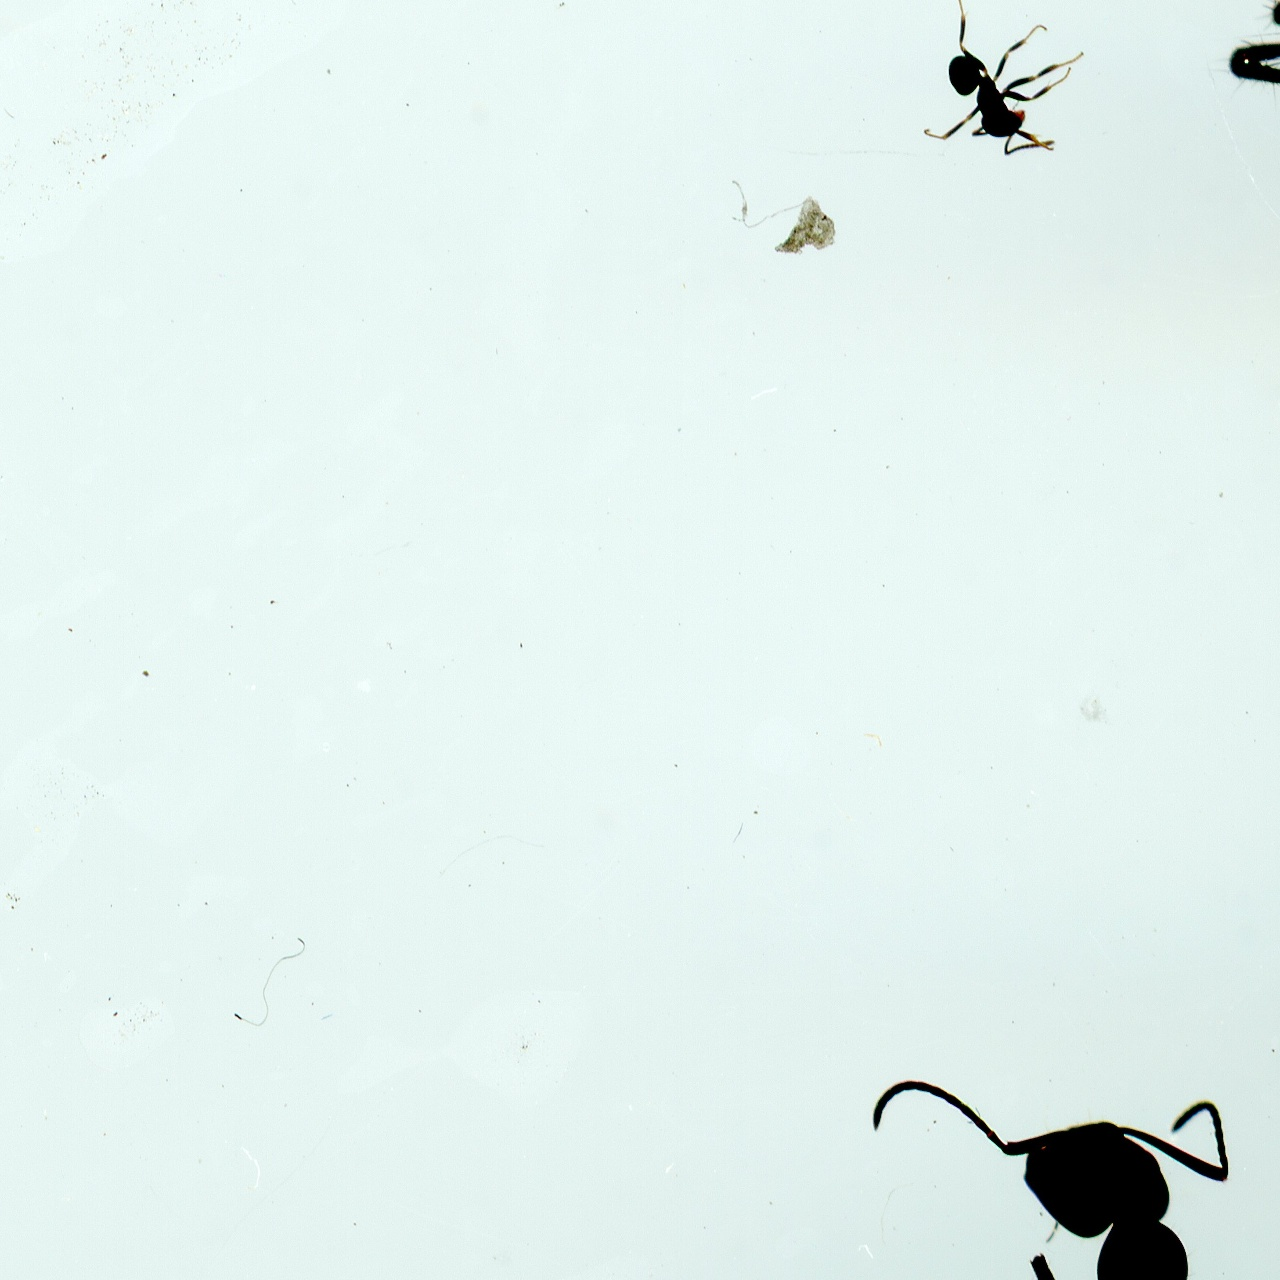arthropod: (854, 1043, 1247, 1280), (921, 0, 1089, 156)
